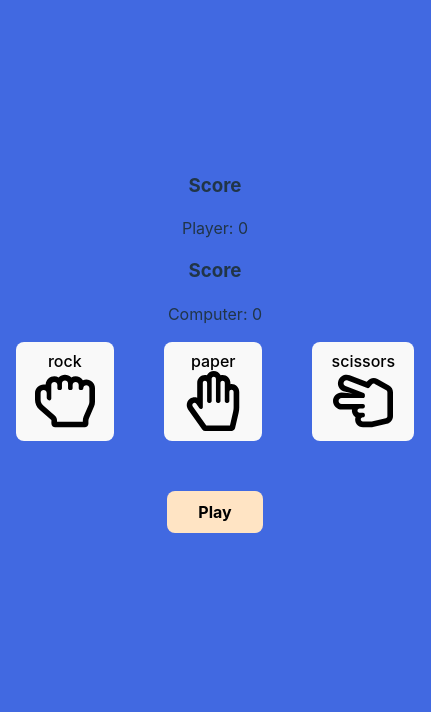
Test case: ScoreAndResults › should reset the previous winner message results
The image size is (431, 712).
Step 1. Click the button "scissors" → (363, 391), box 312,342 -> 414,441
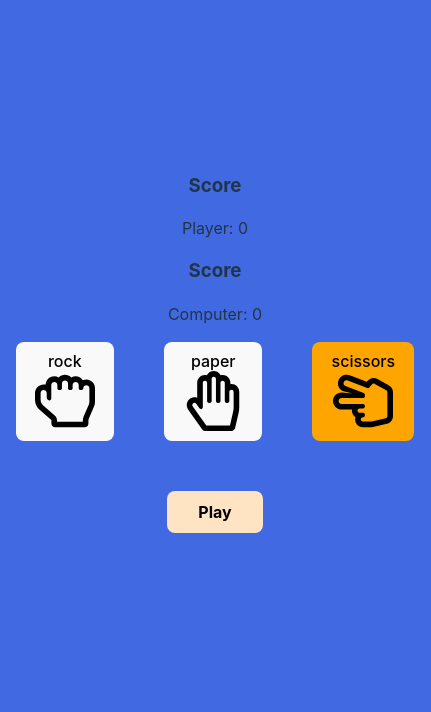
Step 2. Click the button "Play" → (215, 512), box 167,491 -> 263,533
Wait 3000 ms
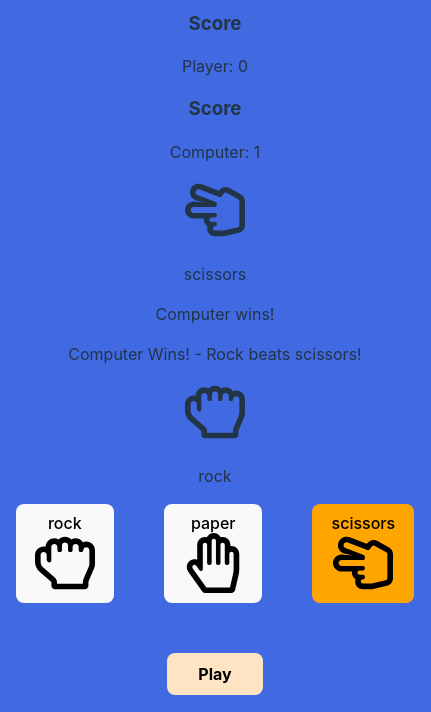
Expected: the text "Computer wins!" is shown, 156,304 -> 274,324
Expected: the 1st icon with test id "rock" is shown, 185,382 -> 245,442
Expected: the number of icons with test id "rock" is 2, 185,382 -> 245,442; 35,533 -> 95,593
Step 3. Click the button "paper" → (213, 553), box 164,504 -> 262,603
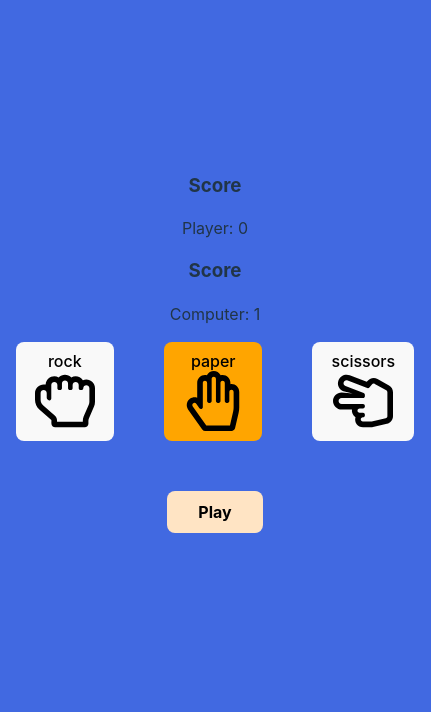
Expected: the text "Computer wins!" is gone
Expected: the number of icons with test id "rock" is 1, 35,371 -> 95,431
